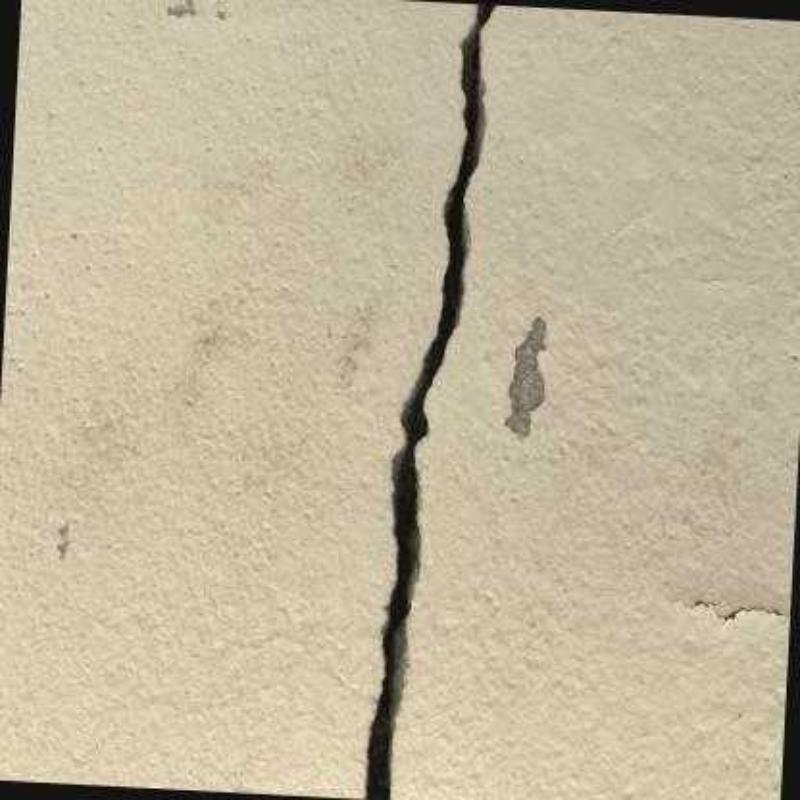pothole: (364, 4, 495, 800)
